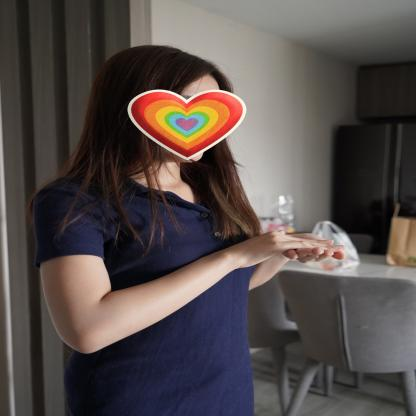Love: (244, 230, 348, 272)
